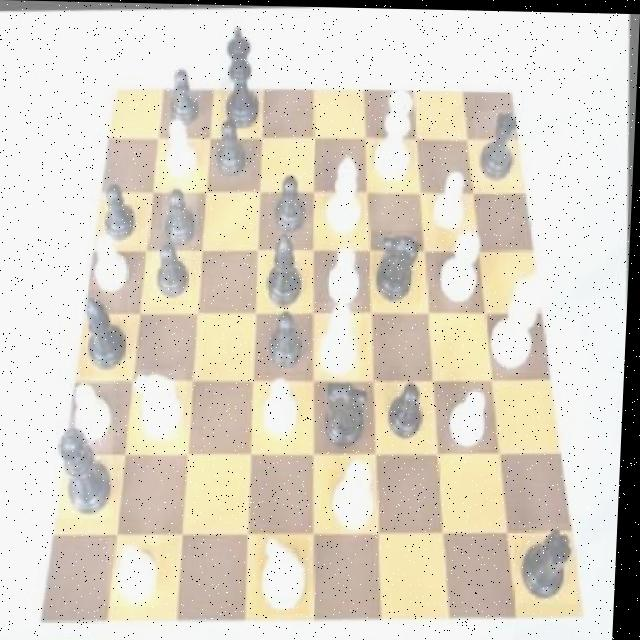bishop: (81, 288, 133, 375), (263, 225, 312, 310)
black-bishop: (217, 22, 265, 132)
black-king: (318, 370, 380, 452), (371, 227, 428, 302)
black-knight: (151, 227, 197, 301), (268, 171, 316, 234), (388, 375, 432, 442), (211, 114, 254, 182), (99, 179, 141, 247), (162, 176, 201, 248), (269, 309, 312, 371), (166, 62, 205, 127)
black-pawn: (55, 413, 120, 518)
black-queen: (519, 519, 585, 602), (472, 107, 526, 185)
black-rook: (316, 299, 366, 378), (323, 155, 369, 237)
white-bishop: (487, 266, 558, 376)
white-king: (259, 531, 316, 615), (136, 367, 191, 444)
white-knight: (111, 535, 167, 606), (448, 379, 498, 455), (429, 160, 475, 240), (86, 225, 133, 299), (257, 374, 310, 439), (72, 377, 121, 445), (155, 117, 204, 184), (320, 241, 366, 303)
white-pawn: (366, 88, 420, 191)
white-queen: (435, 225, 489, 313), (334, 455, 387, 526)
